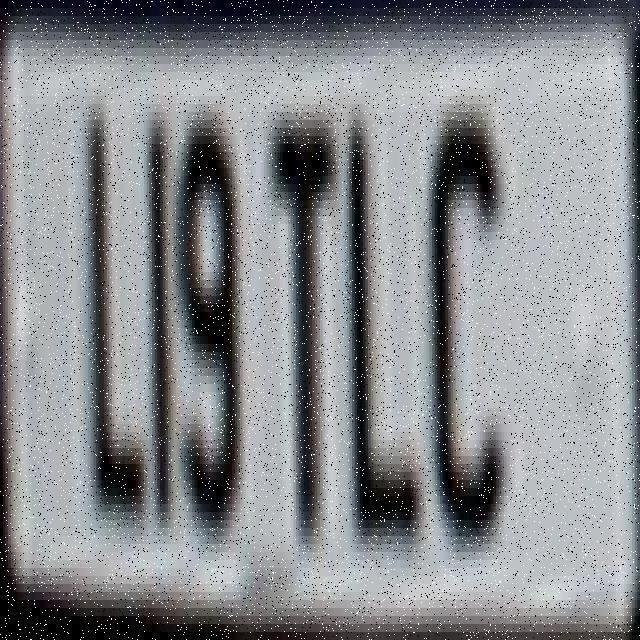License Plate: (9, 19, 625, 604)
